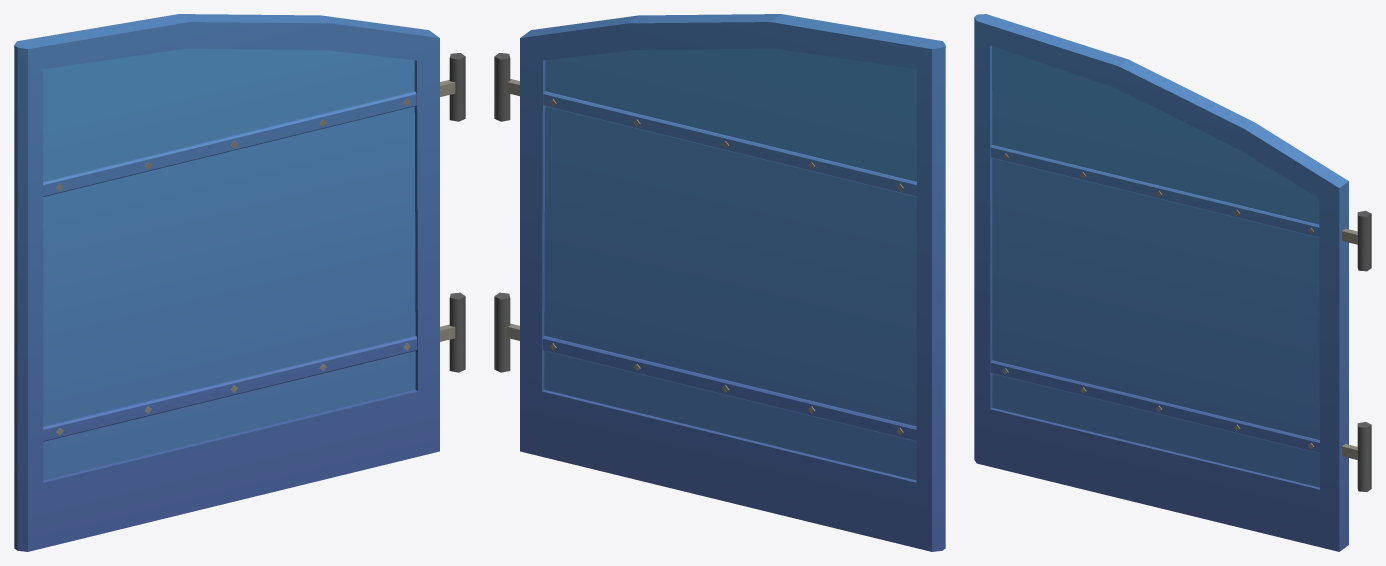
File: WallFence_3_Gate_A.glb
The picture shows the model from 3 angles, left to right: view 1: azimuth 30°, elevation 25°; view 2: azimuth 150°, elevation 25°; view 3: azimuth 330°, elevation 25°; orthographic projection. The views are drawn at different scales.
Visible parts, largest first — view 1: WallFence_3_Gate_A; view 2: WallFence_3_Gate_A; view 3: WallFence_3_Gate_A.
Part boxes in pixels (box(x1,y1,x2,y2)): WallFence_3_Gate_A: box(14, 14, 465, 551); WallFence_3_Gate_A: box(494, 14, 945, 551); WallFence_3_Gate_A: box(974, 14, 1371, 551).
Bounding box in the file's own units: 1.89 × 2.03 × 0.08.
Materials: 1 (1 with a texture image).
